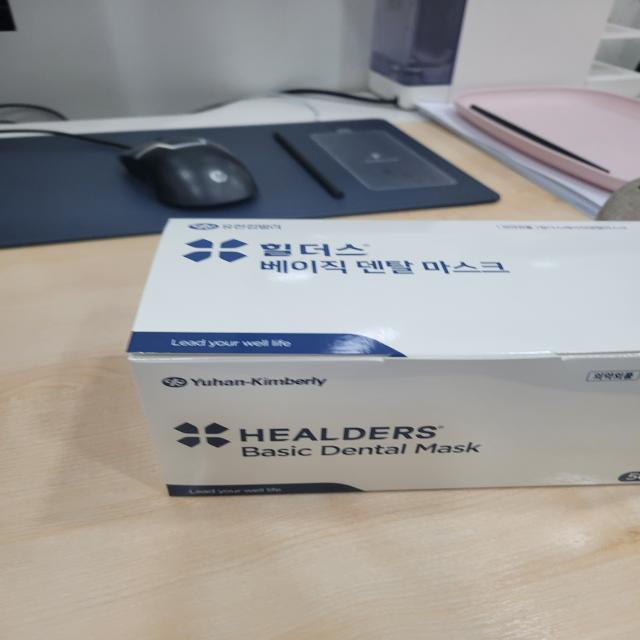mask: (119, 198, 640, 528)
